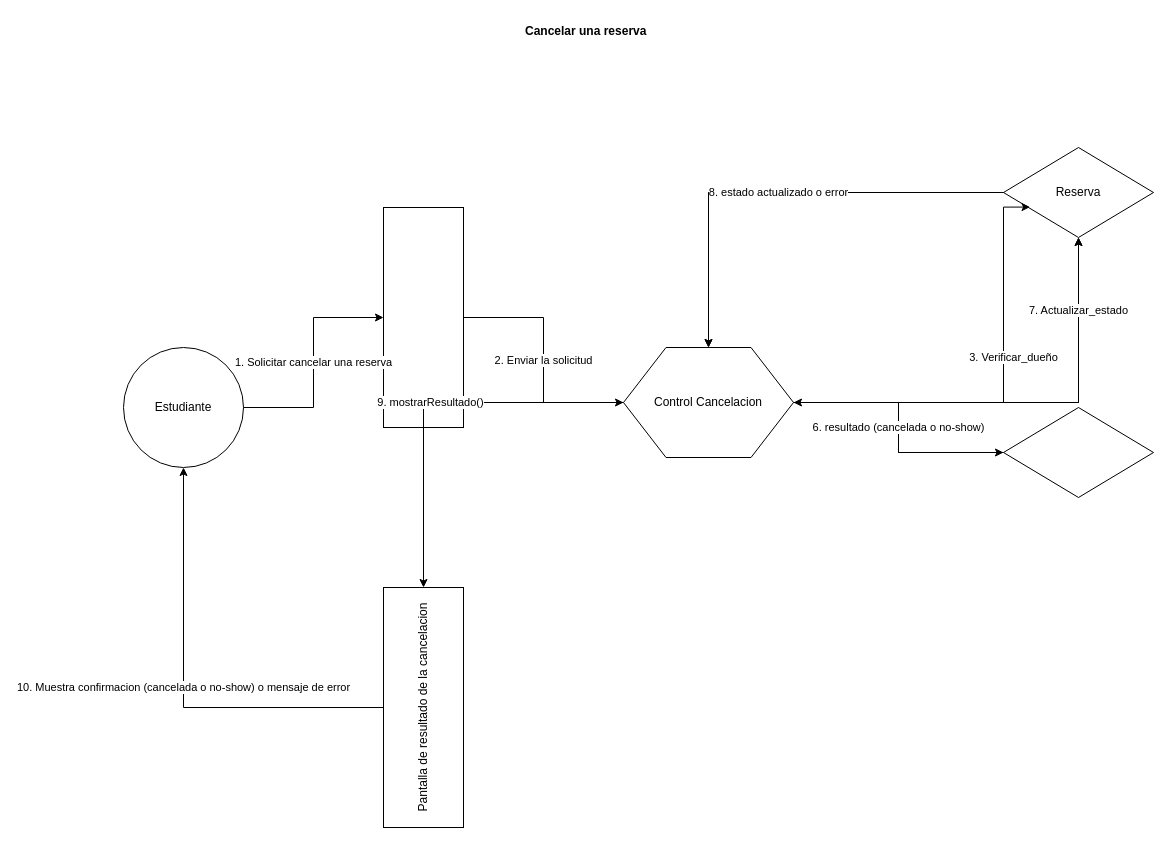
Some shapes in this 1171 by 845 pixel diagram are drawn without their labels. The centre of each missing label's shape, as x and y in pixels:
"Pantalla de cancelacion" belongs at (423,317).
"Regla de 2 horas" belongs at (1078,452).
